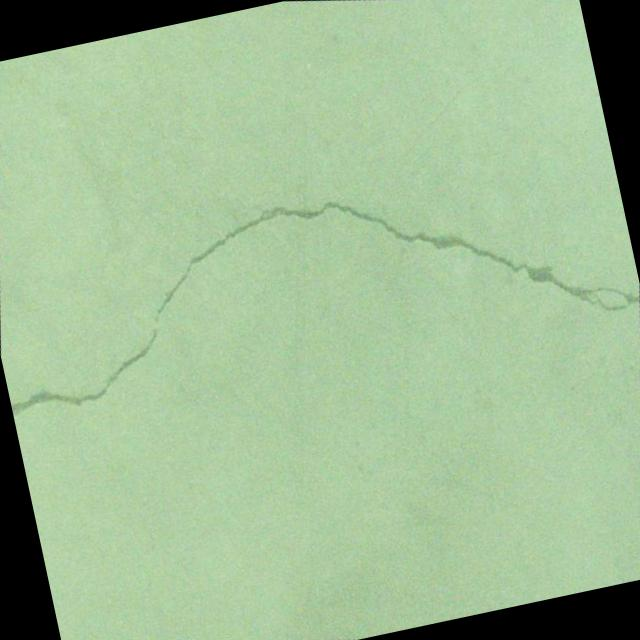crack: (0, 78, 640, 539)
